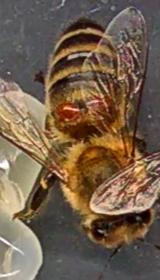varroa_mite: (56, 91, 80, 125)
